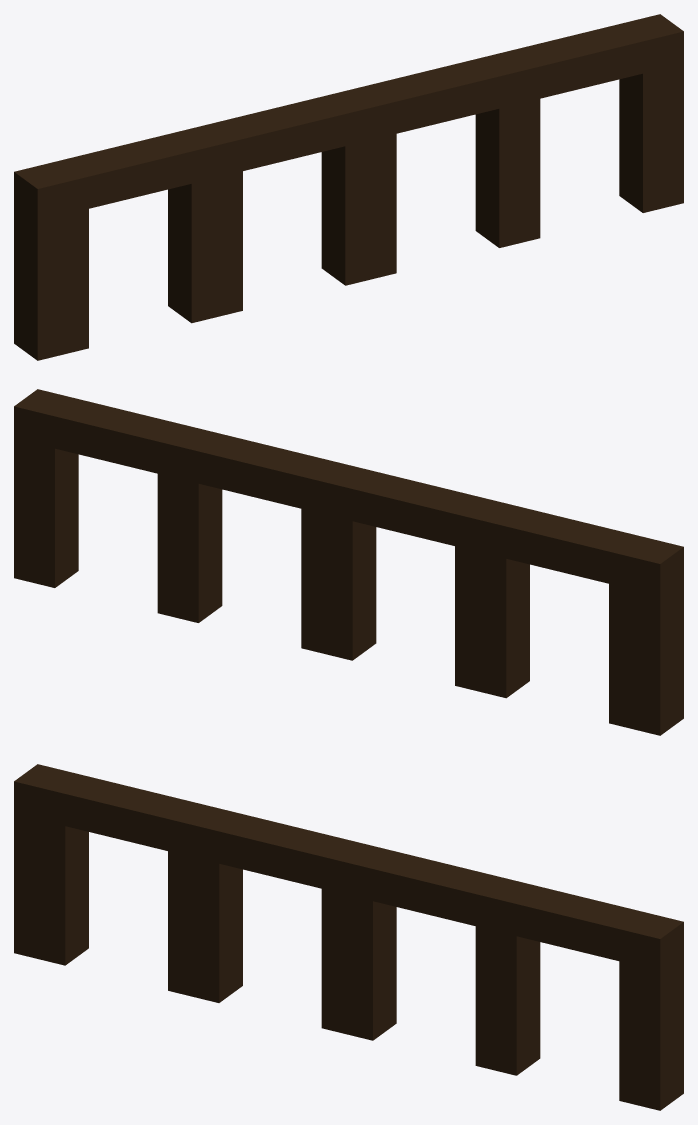
File: ponte-1.obj
3 views of the same model, one above another, from view 1: azimuth 30°, elevation 25°; view 2: azimuth 150°, elevation 25°; view 3: azimuth 330°, elevation 25° (orthographic).
Size of the model in its own units: 6.3 by 1.6 by 0.4.
Materials: 1 (1 with a texture image).
